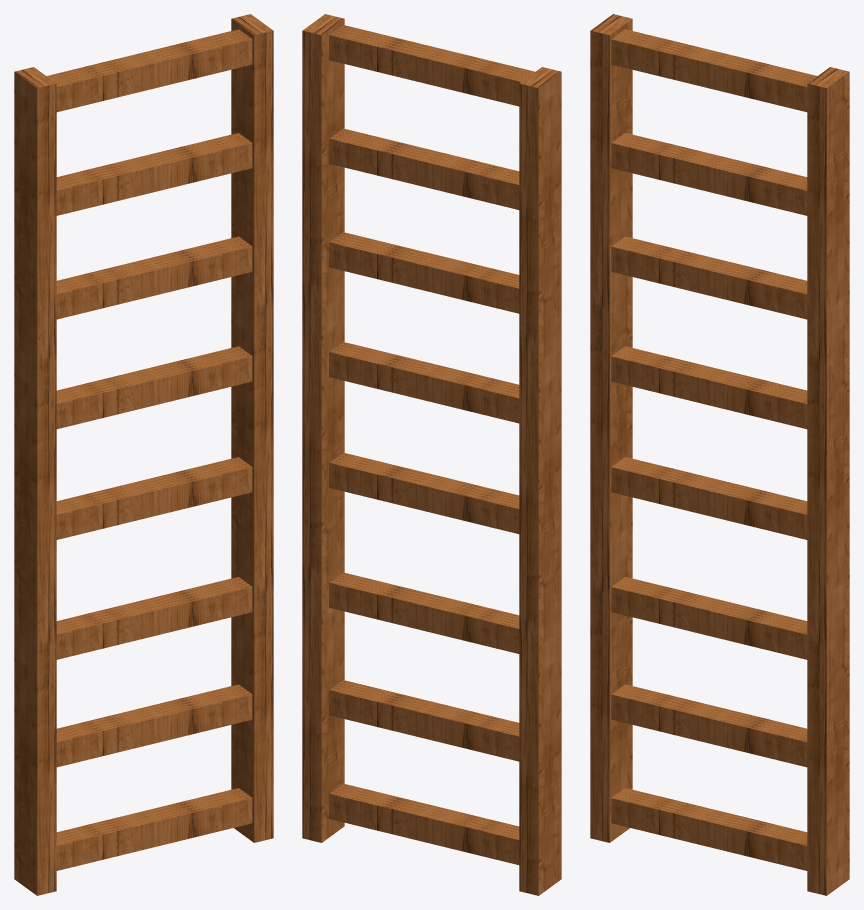
The model's file is Ladder.FBX.
3 views of the same model, side by side, from view 1: azimuth 30°, elevation 25°; view 2: azimuth 150°, elevation 25°; view 3: azimuth 330°, elevation 25° (orthographic).
Parts seen in each view (by area): view 1: Ladder; view 2: Ladder; view 3: Ladder.
Part boxes in pixels (<box>): Ladder: <box>14,14,273,895</box>; Ladder: <box>302,14,561,895</box>; Ladder: <box>590,14,849,895</box>.
Size of the model in its own units: 36.2 by 118 by 6.04.
